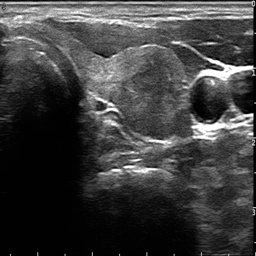mass: (112, 48, 192, 143)
